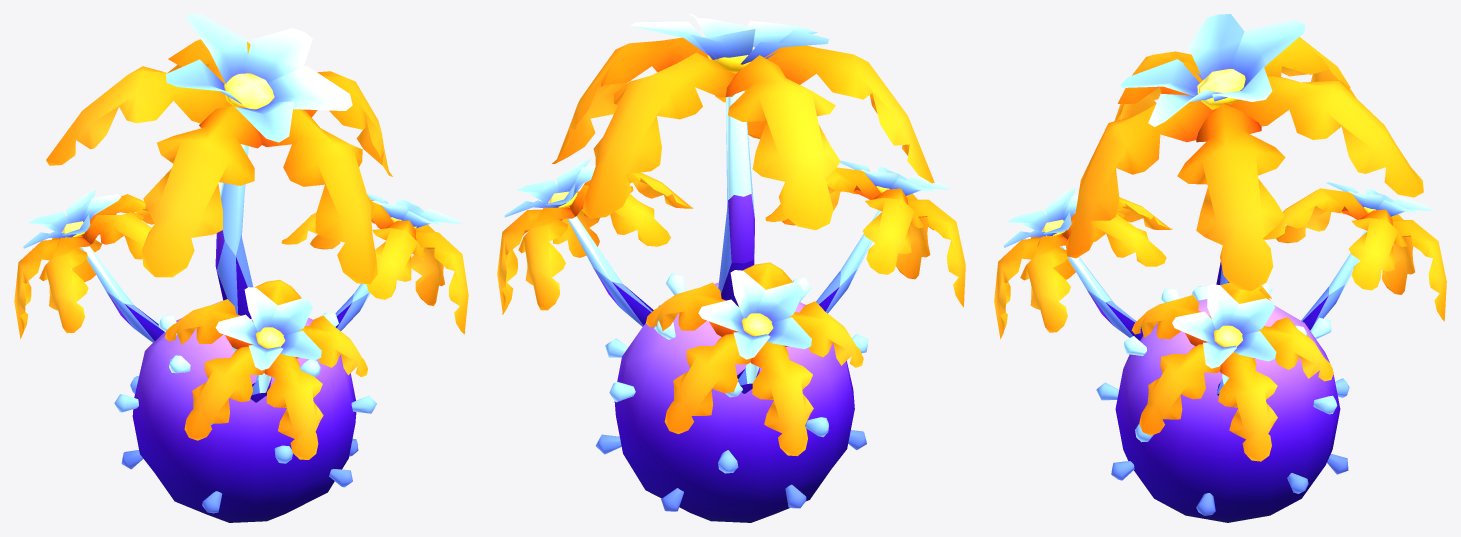
File: nobbly_puff_plant.glb
The picture shows the model from 3 angles, left to right: view 1: azimuth 30°, elevation 25°; view 2: azimuth 150°, elevation 25°; view 3: azimuth 270°, elevation 25°; orthographic projection. The views are drawn at different scales.
Visible parts, largest first — view 1: Nobbly Puff Plant; view 2: Nobbly Puff Plant; view 3: Nobbly Puff Plant.
Part boxes in pixels (<box>): Nobbly Puff Plant: <box>14,14,468,522</box>; Nobbly Puff Plant: <box>497,14,965,522</box>; Nobbly Puff Plant: <box>994,14,1446,522</box>.
Bounding box in the file's own units: 1.26 × 1.6 × 1.37.
1 material, 1 textured.
